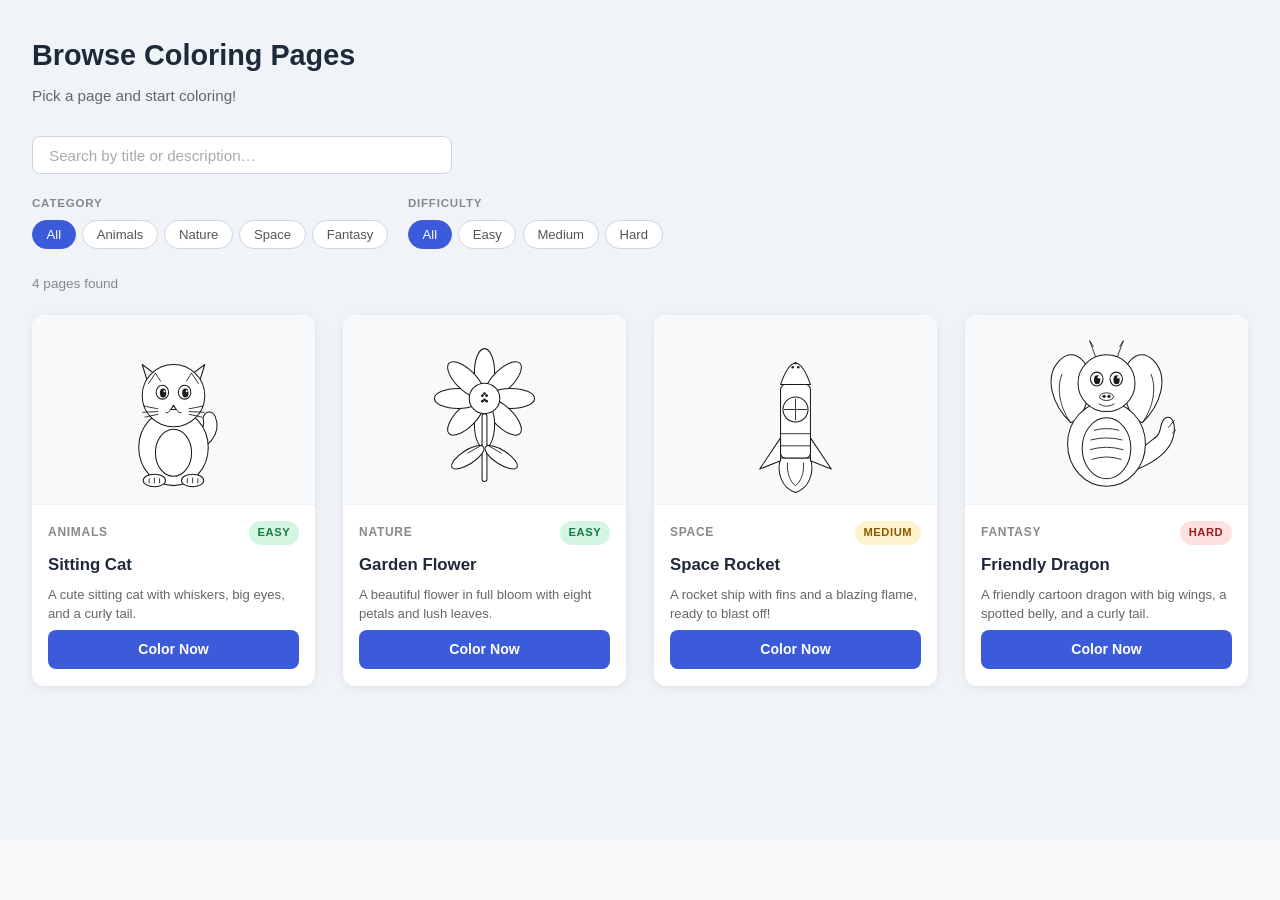
Browse Page Filter & Search Tests › filters by category when clicking category filter pills
Note: Click Animals category button
Click the button "Animals": (120, 234) [82,220,158,249]
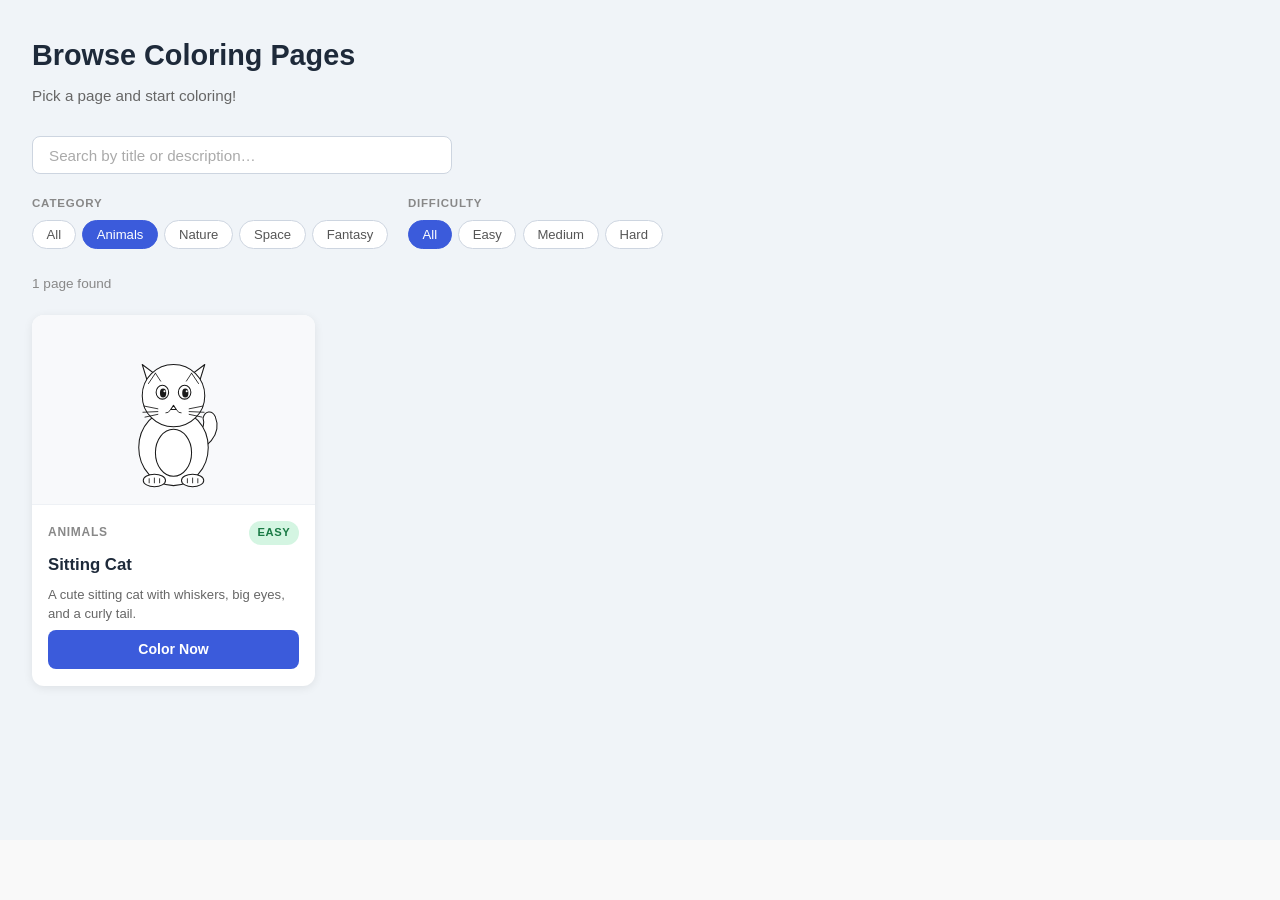
Check: the heading "Garden Flower" is gone
Check: the heading "Space Rocket" is gone
Check: the heading "Friendly Dragon" is gone
